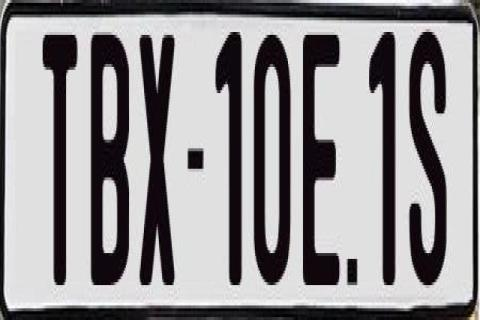0: (254, 32, 295, 296), (369, 32, 400, 294), (214, 23, 244, 291)
B: (88, 29, 130, 291)
E: (302, 32, 345, 288)
S: (407, 29, 445, 299)
T: (39, 29, 78, 282)
X: (136, 26, 176, 288)
